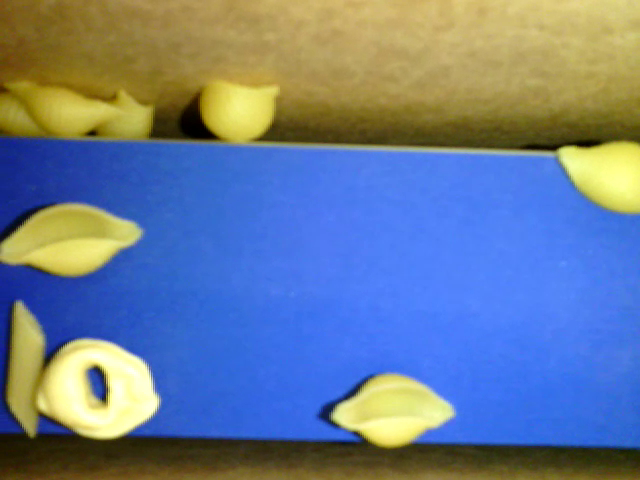penne: (3, 298, 46, 437)
shell: (1, 203, 146, 279), (325, 369, 455, 448), (4, 78, 126, 138), (553, 140, 639, 217), (199, 79, 277, 142), (92, 91, 153, 142), (1, 88, 51, 136)
tortellini: (35, 338, 160, 440)
